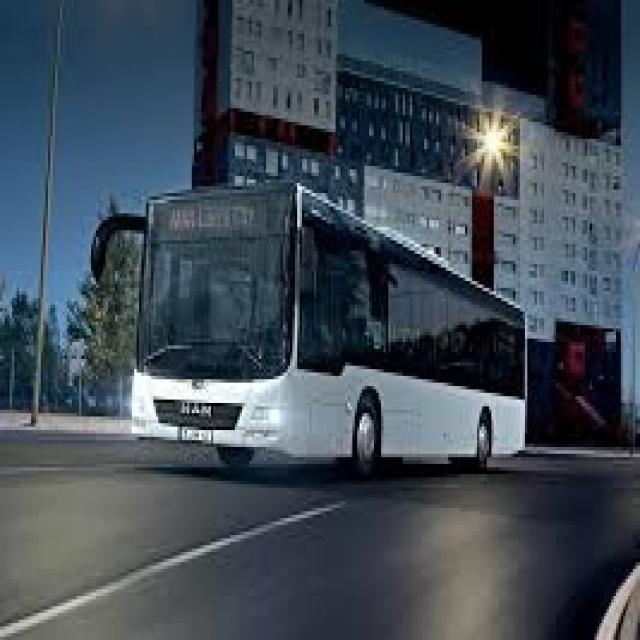bus: (130, 187, 531, 468)
